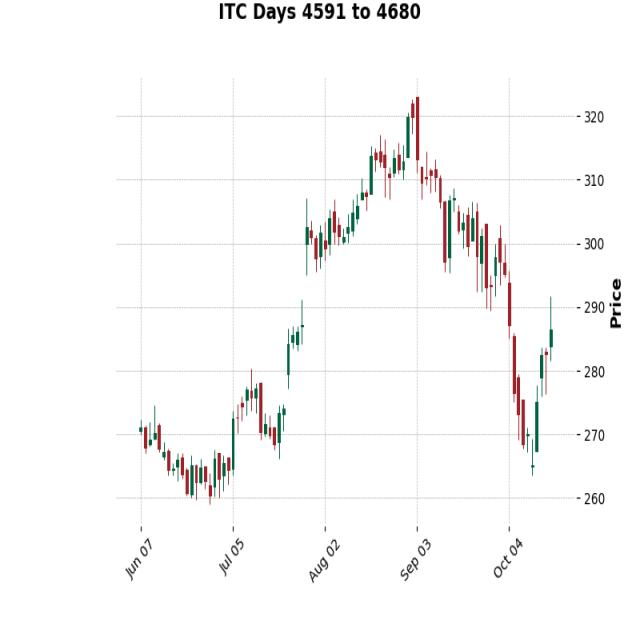Head and Shoulder: (299, 96, 521, 316)
